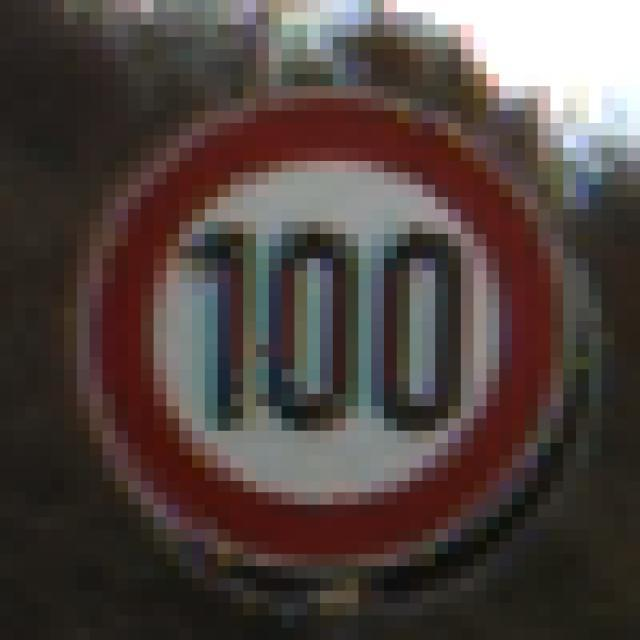speed limit 100: (67, 76, 601, 585)
